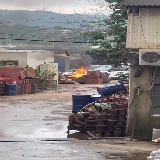fire: (67, 66, 87, 77)
